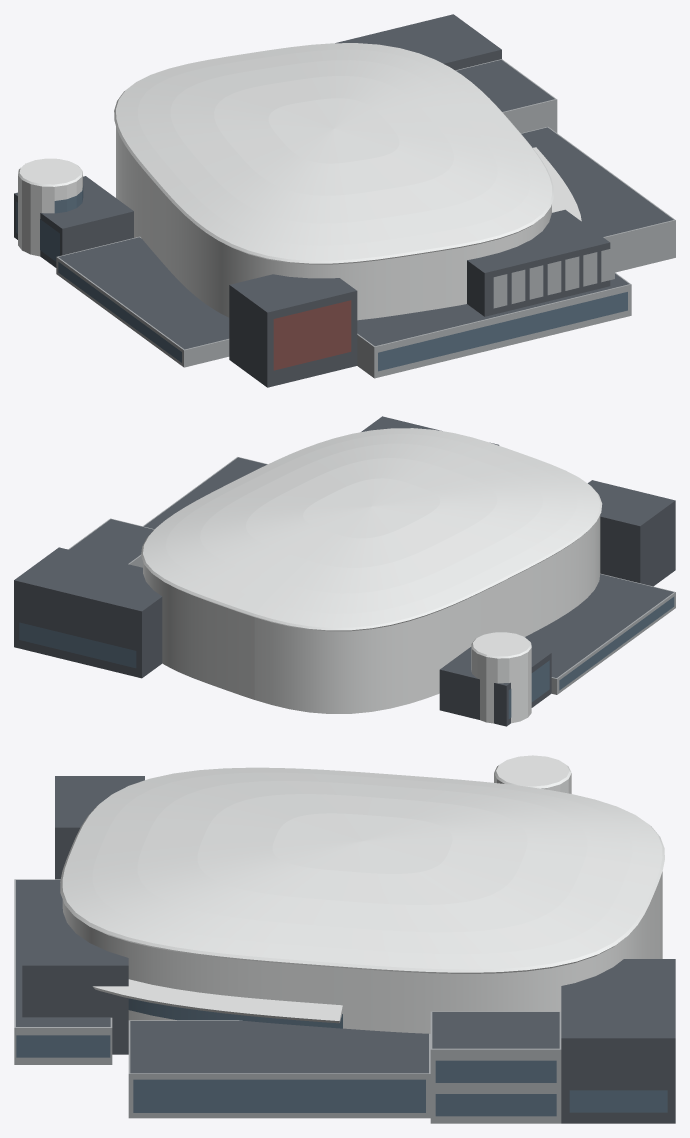
File: phl-xfinity-mobile-arena.glb
3 views of the same model, one above another, from view 1: azimuth 30°, elevation 25°; view 2: azimuth 150°, elevation 25°; view 3: azimuth 270°, elevation 25° (orthographic). The views are drawn at different scales.
Parts seen in each view (by area): view 1: Xfinity Mobile Arena; view 2: Xfinity Mobile Arena; view 3: Xfinity Mobile Arena.
Part boxes in pixels (x1,y1,x2,y2): Xfinity Mobile Arena: [14, 14, 675, 387]; Xfinity Mobile Arena: [14, 416, 675, 726]; Xfinity Mobile Arena: [14, 755, 675, 1123].
Size of the model in its own units: 165 by 37 by 162.
